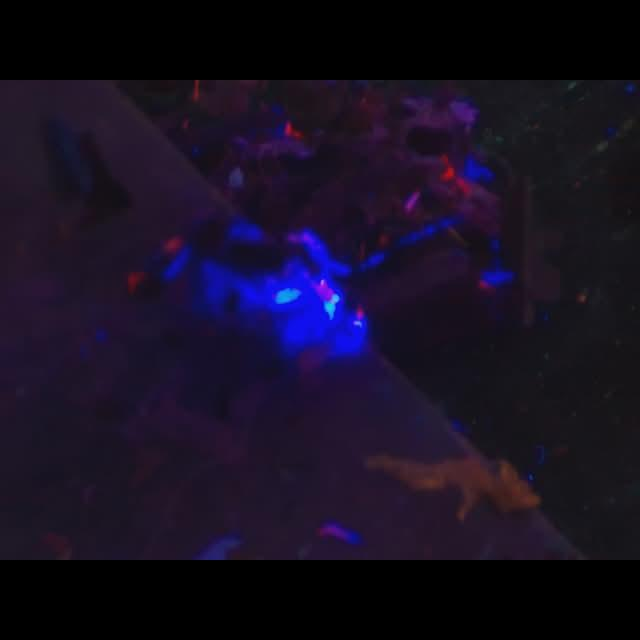Fragment: (368, 456, 542, 520)
